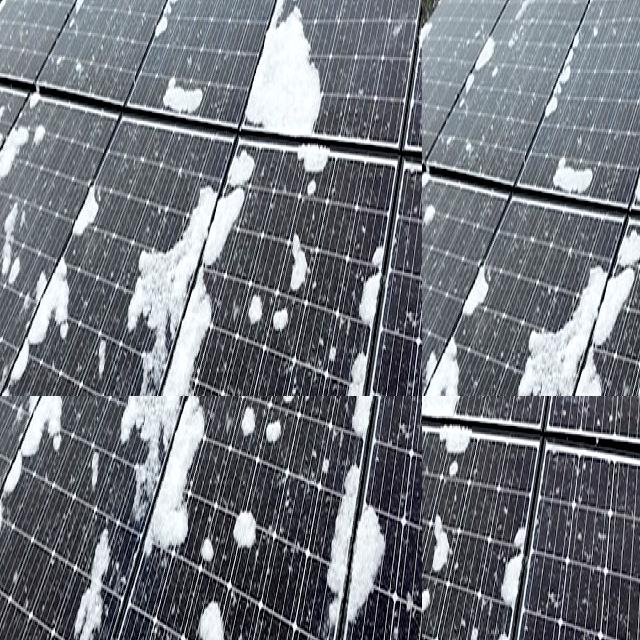crack: (0, 59, 92, 334), (0, 28, 77, 201), (0, 27, 84, 123)
dust: (530, 209, 640, 396), (182, 497, 323, 640), (76, 396, 171, 487)
panel: (422, 412, 484, 640), (478, 484, 531, 640), (422, 472, 467, 599), (422, 396, 475, 496), (422, 465, 450, 640), (422, 396, 458, 479), (422, 541, 452, 640), (555, 396, 588, 485), (422, 517, 445, 640), (422, 449, 441, 593), (422, 431, 444, 539), (422, 396, 442, 460), (422, 396, 445, 449), (422, 396, 447, 430), (422, 400, 433, 449), (422, 602, 431, 640)
